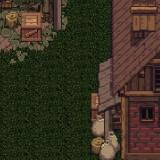Hide: (0, 17, 50, 85)
Obstacle: (74, 0, 160, 160), (0, 0, 74, 65)
